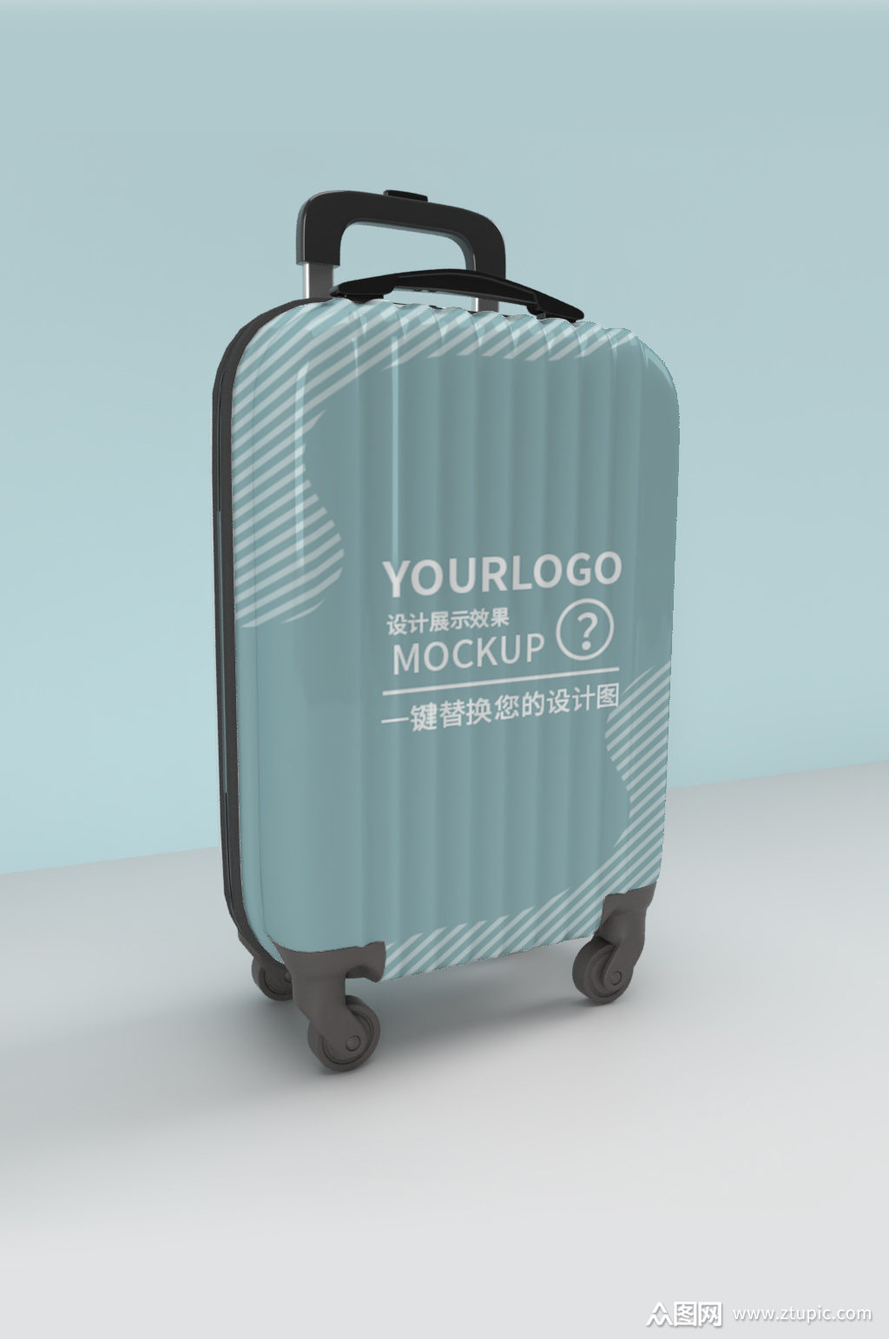box: (210, 298, 679, 988)
handle: (329, 269, 584, 324)
wheel: (307, 993, 379, 1073), (572, 936, 635, 1005), (252, 953, 292, 1002)
